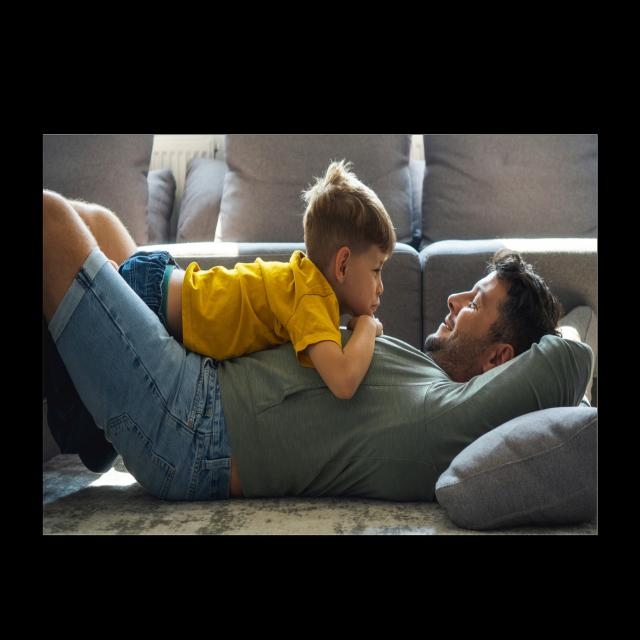adult: (37, 188, 593, 503)
child: (116, 152, 398, 400)
